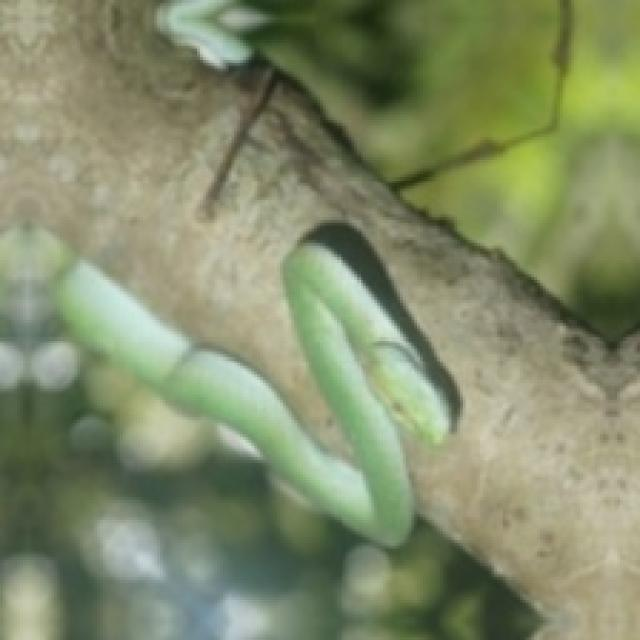north ph temple pitviper: (0, 229, 449, 543), (57, 243, 449, 543)
